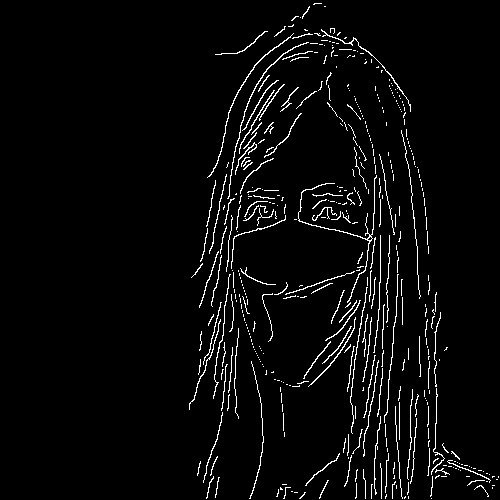mask: (216, 211, 383, 376)
